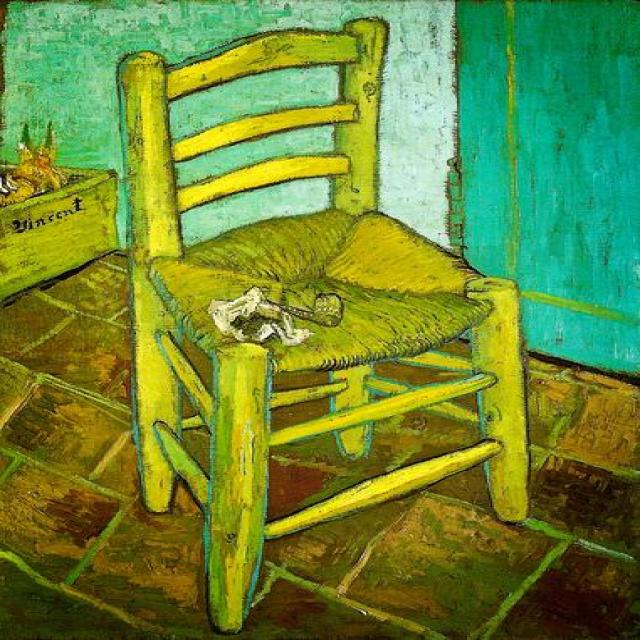chair: (116, 15, 532, 635)
